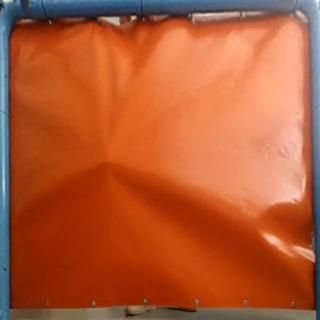Hit-hRxx: (100, 158, 118, 170)
